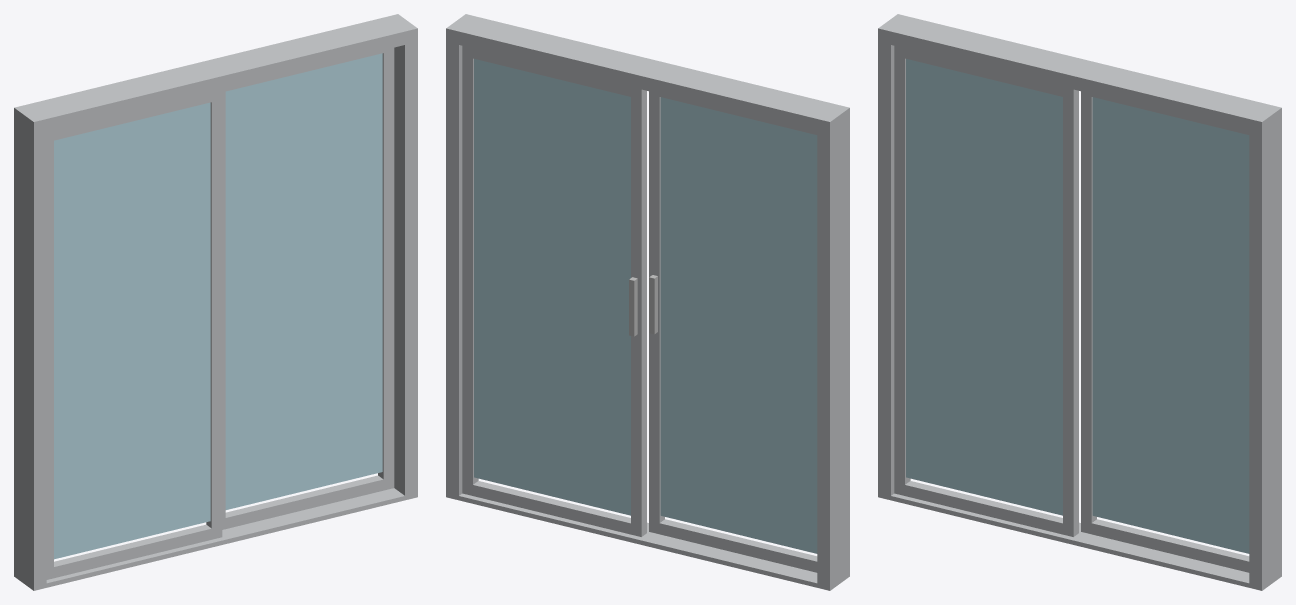
The model's file is opening.door.sliding_1800.glb.
3 views of the same model, side by side, from view 1: azimuth 30°, elevation 25°; view 2: azimuth 150°, elevation 25°; view 3: azimuth 330°, elevation 25° (orthographic).
Parts seen in each view (by area): view 1: glazing__glass, frame__aluminium, leaf__aluminium; view 2: glazing__glass, frame__aluminium, leaf__aluminium, ironmongery__steel_stainless; view 3: glazing__glass, frame__aluminium, leaf__aluminium.
Part boxes in pixels (x1=…): glazing__glass: x1=54, y1=53, x2=382, y2=559; frame__aluminium: x1=14, y1=14, x2=417, y2=590; leaf__aluminium: x1=46, y1=47, x2=394, y2=579; glazing__glass: x1=474, y1=59, x2=817, y2=553; frame__aluminium: x1=446, y1=14, x2=849, y2=590; leaf__aluminium: x1=462, y1=46, x2=817, y2=572; ironmongery__steel_stainless: x1=629, y1=275, x2=657, y2=336; glazing__glass: x1=906, y1=59, x2=1249, y2=553; frame__aluminium: x1=878, y1=14, x2=1281, y2=590; leaf__aluminium: x1=894, y1=46, x2=1249, y2=572.
Bounding box in the file's own units: 1.8 × 2.1 × 0.16.
